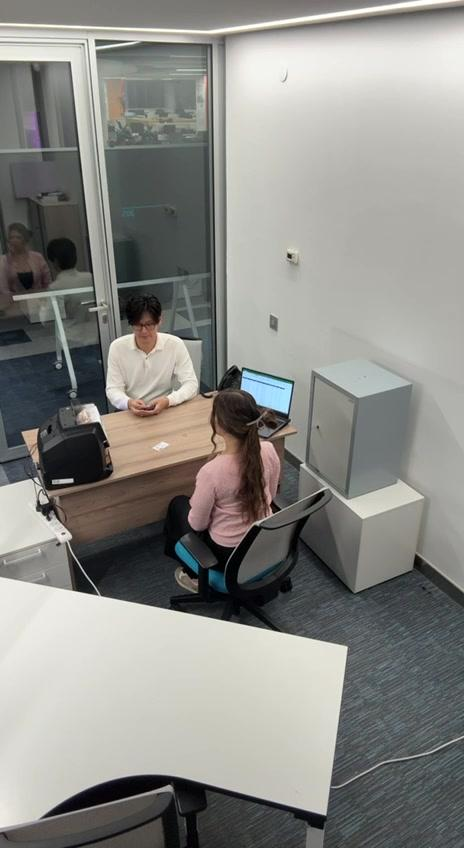counter: (38, 403, 112, 486)
document: (153, 442, 171, 452)
key_in: (312, 425, 324, 441)
screen_on: (241, 369, 293, 415)
